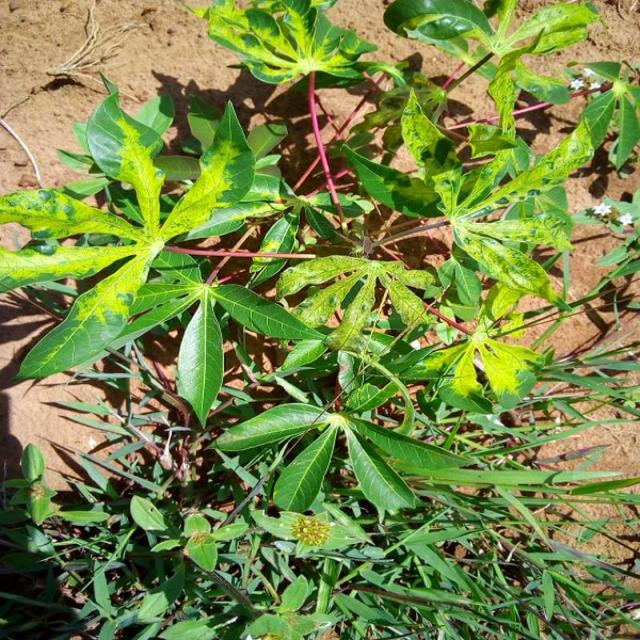cassava leaf: (2, 92, 259, 384), (175, 290, 224, 428)
